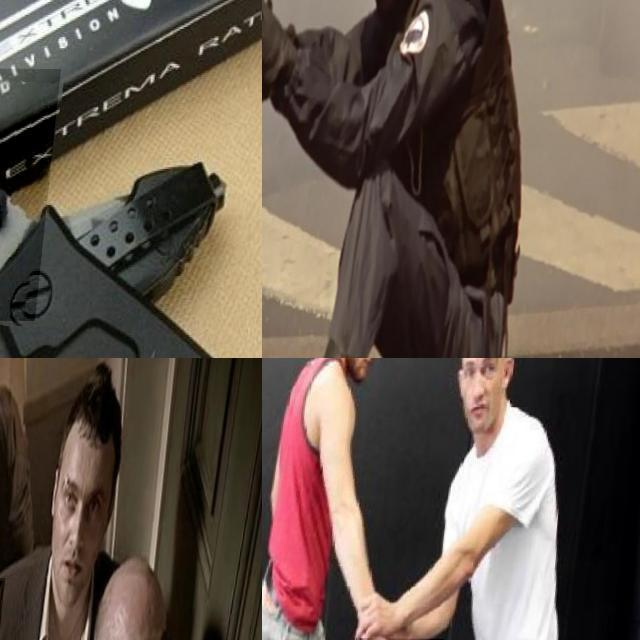-: (0, 67, 136, 320)
gun-knife-thesis - v11 Yolov5 augmented: (262, 0, 290, 43)
